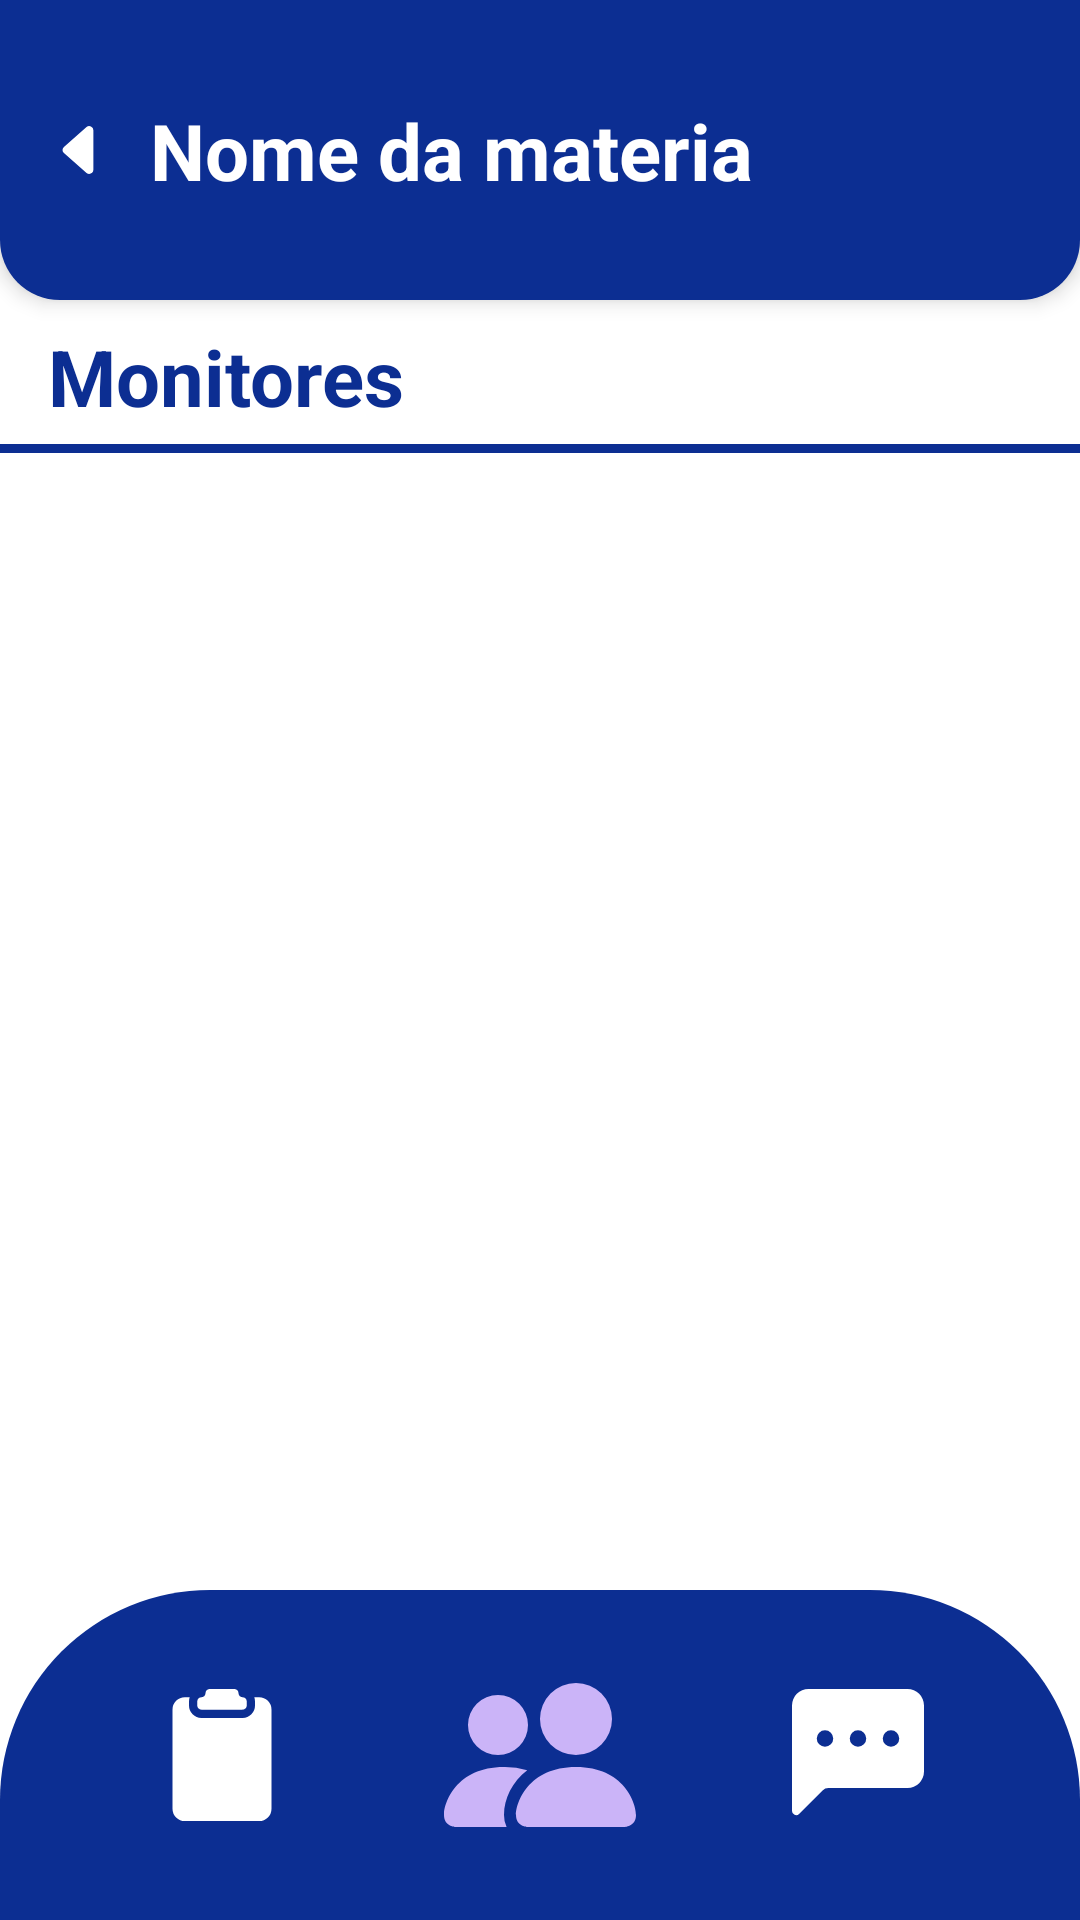

Named icons in this screenshot (1080×1920) and their centers, point (x, y):
caret left: point (78, 150)
